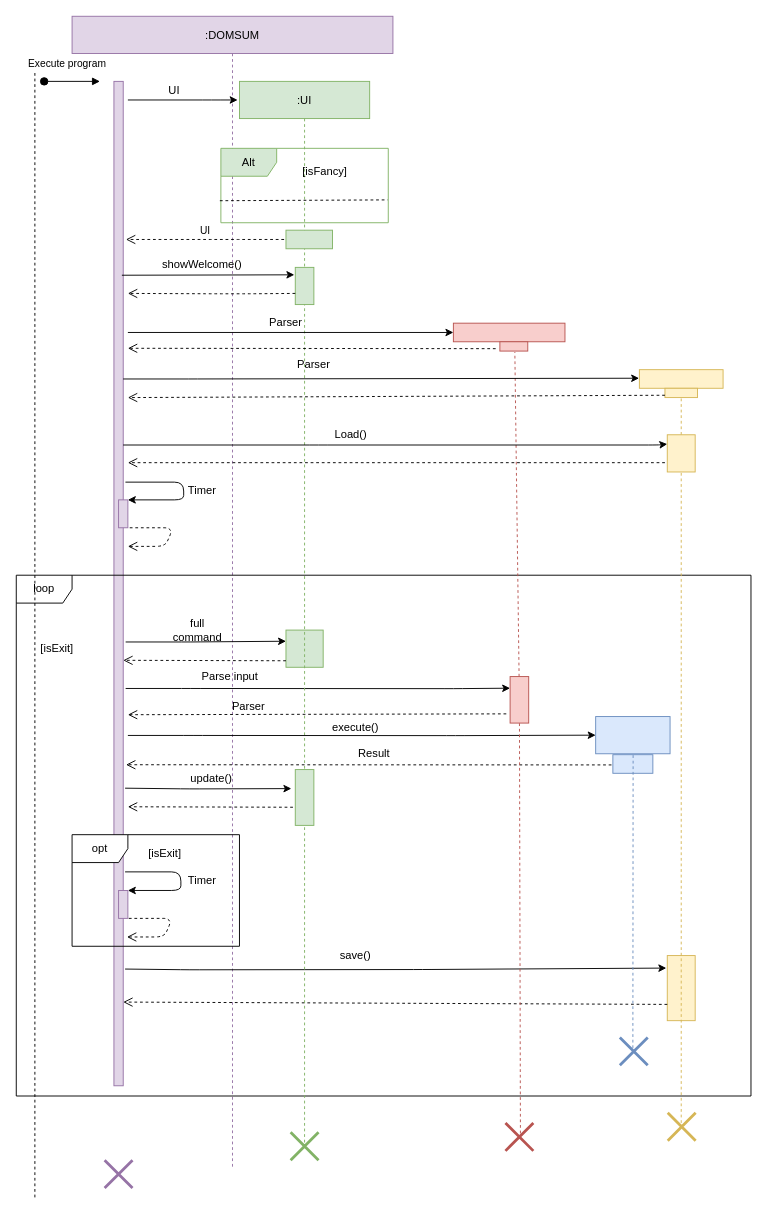
Some shapes in this 767 by 1215 pixel diagram are drawn without their labels. The centre of each missing label's shape, as x and y in pixels:
:Command: (632,735)
:Parser: (508,332)
:Storage: (680,378)
